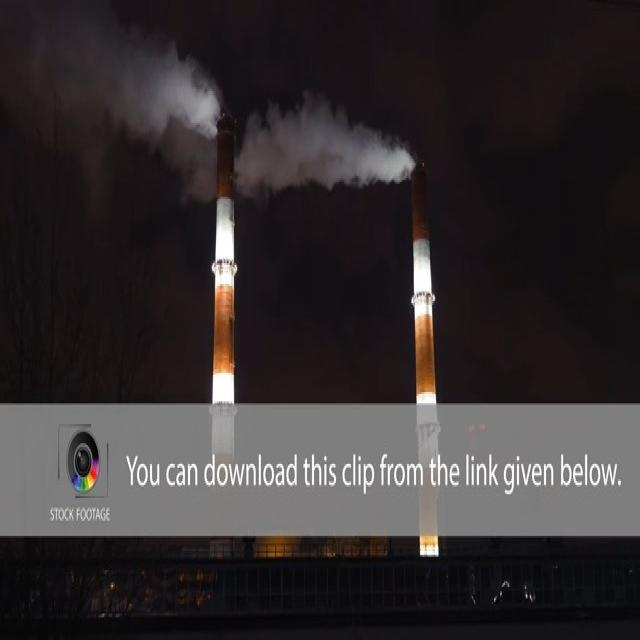smoke: (0, 4, 221, 199), (235, 93, 415, 195)
